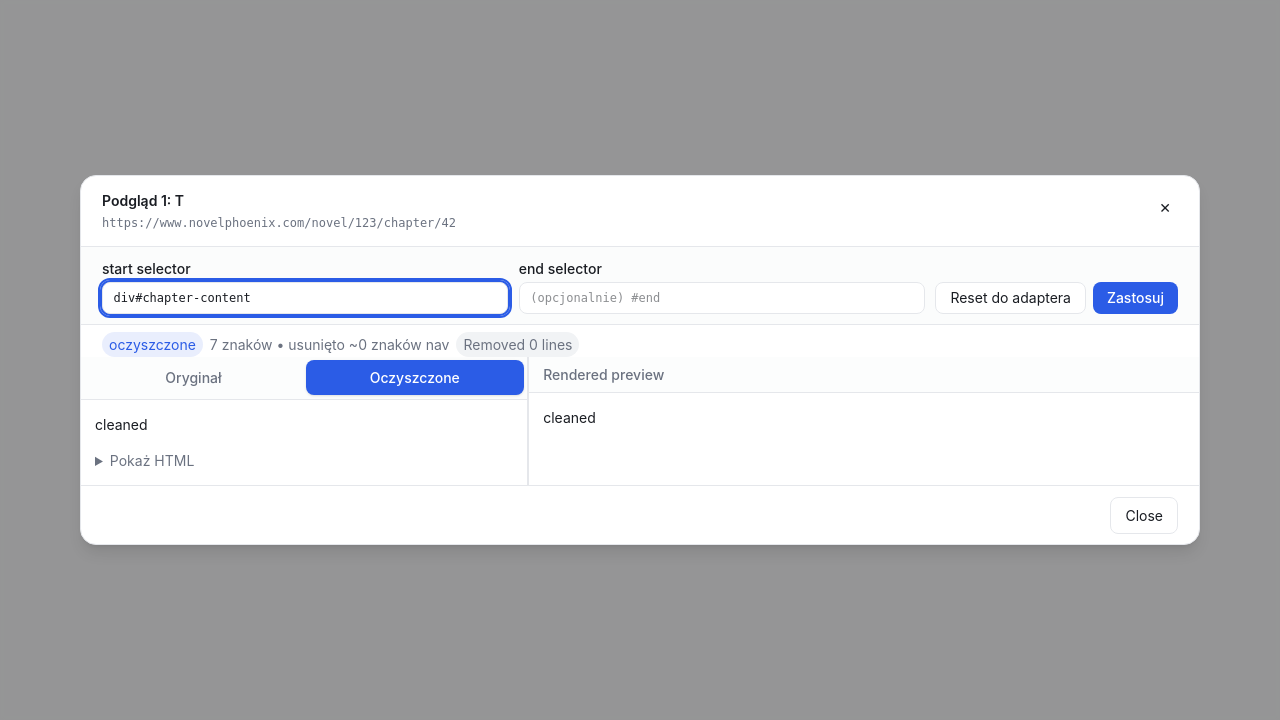
Scenario: Preview 2.2 — selector boundary + live re-parse › Reset do adaptera restores default and clears override
In the field with test id "preview-start-input": [305, 298] box [102,282,508,314], type ".novel-text"
Wait 350 ms
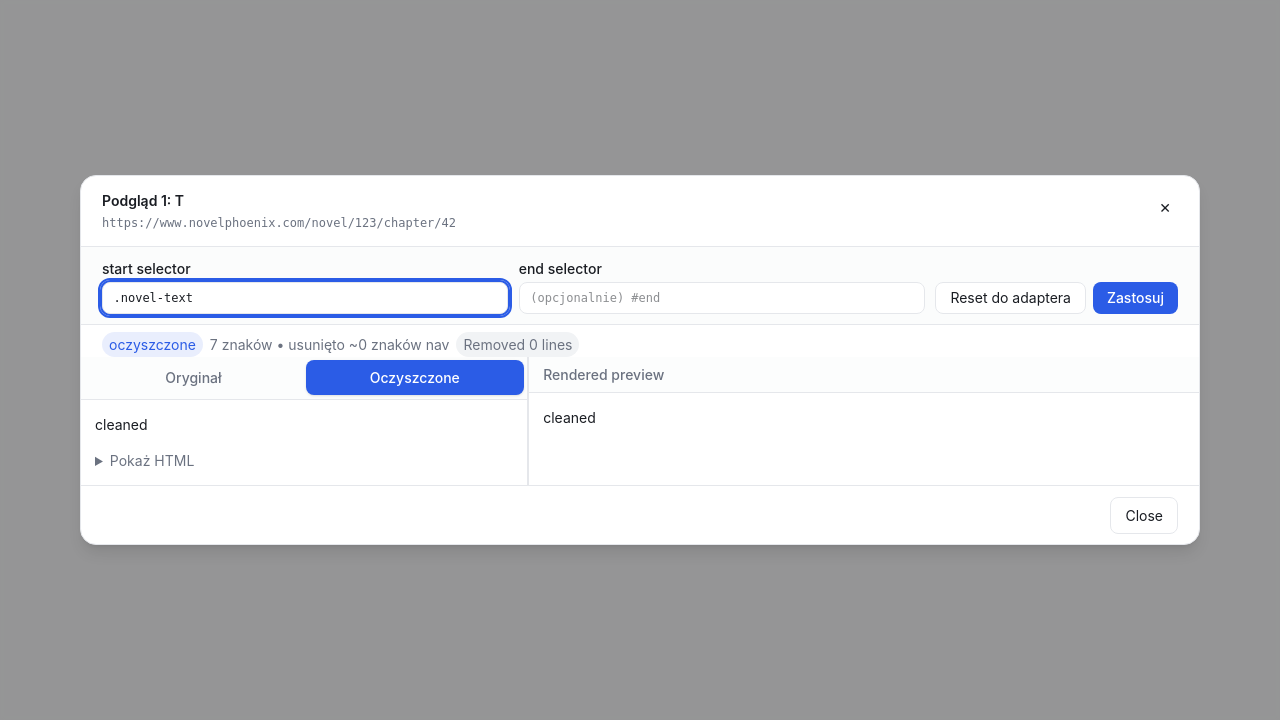
Click the button with test id "preview-reset": [1011, 298] box [935,282,1086,314]
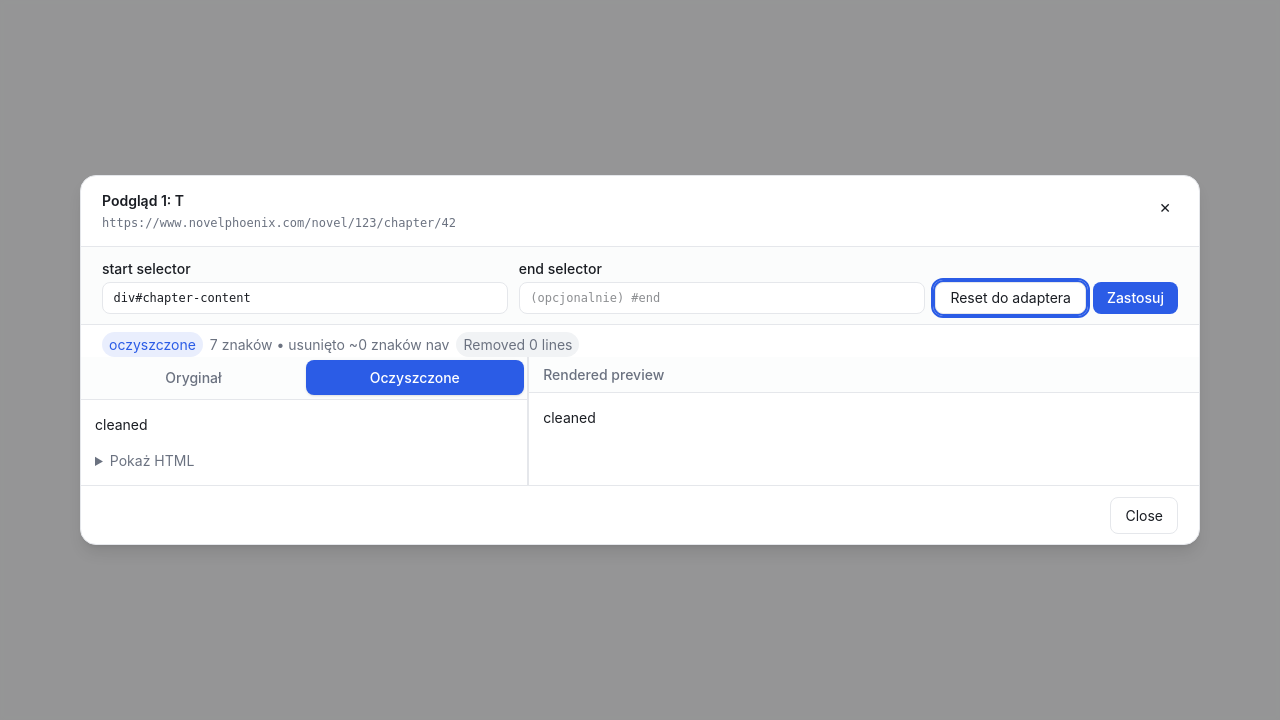
Expected: the field with test id "preview-end-input" is empty, [519,282,925,314]
Expected: the field with test id "preview-start-input" holds "div#chapter-content", [102,282,508,314]
